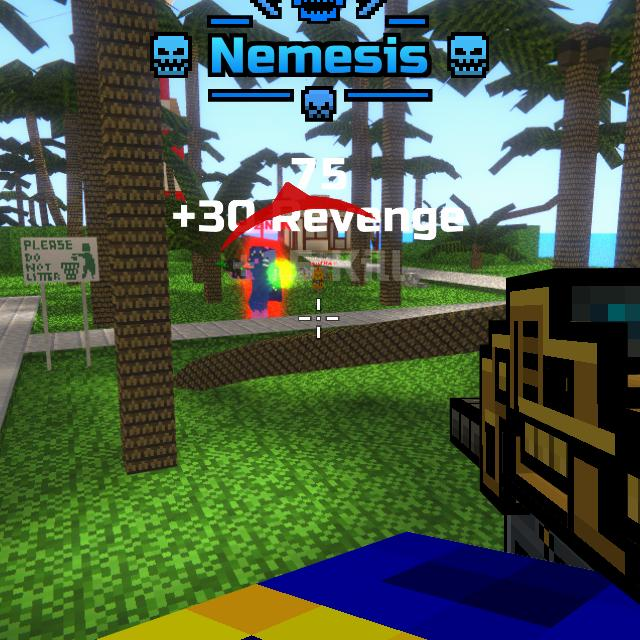Enemy: (230, 246, 277, 317)
